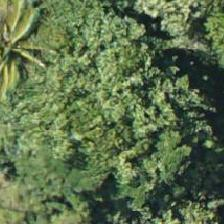coconut_tree: (0, 0, 53, 84)
